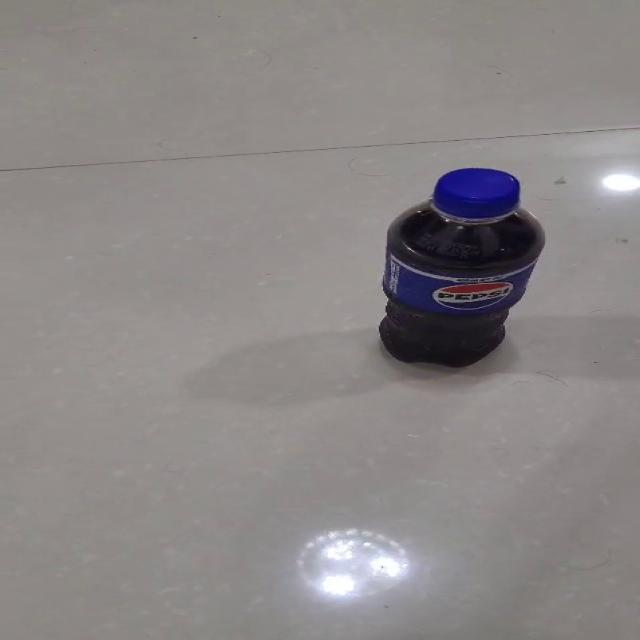plastic: (376, 166, 546, 368)
